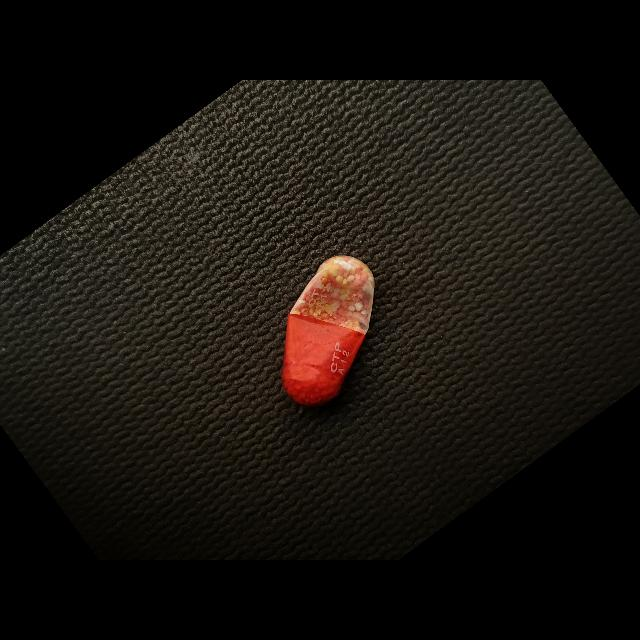Defective Capsule: (282, 255, 375, 406)
